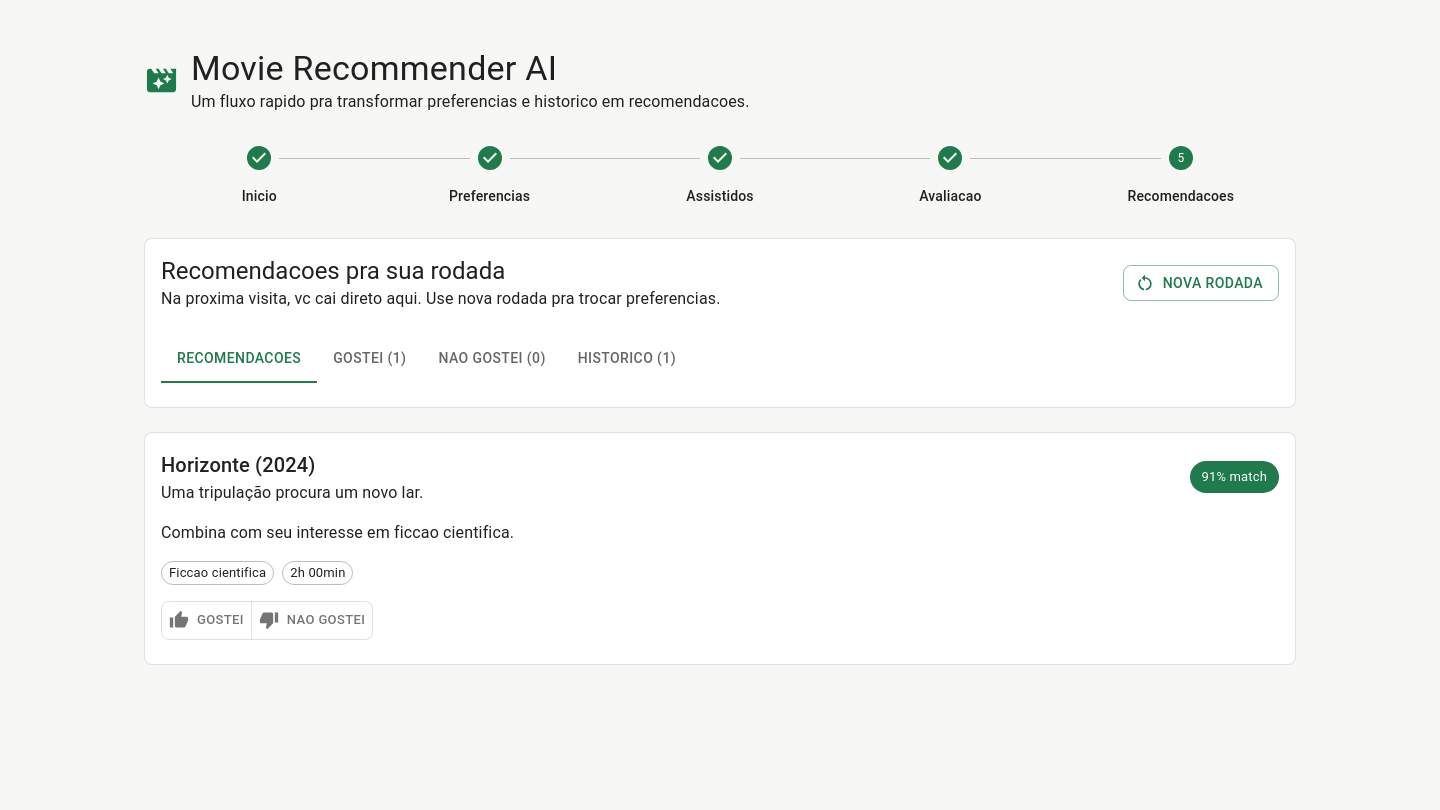
Test: recommendation journey › when viewing an existing recommendation round › shows feedback and round history in their respective tabs
Expected: the heading "Horizonte (2024)" is shown, [161,453,316,477]
Click the tab "Gostei (1)" at x=370, y=359, box [317,335,422,383]
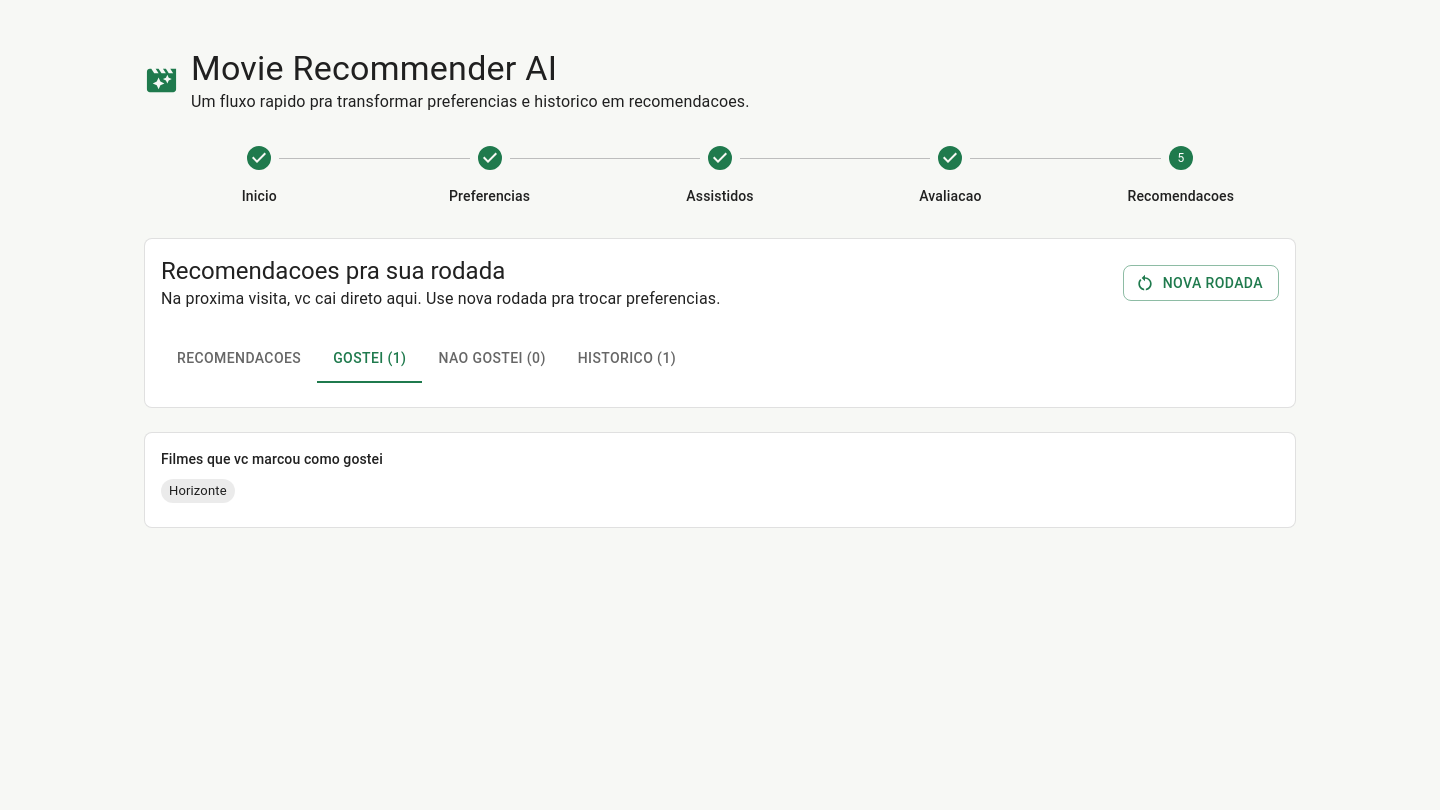
Now the heading "Filmes que vc marcou como gostei" is shown, box [161,451,383,467]
Click the tab "Historico (1)" at x=627, y=359, box [562,335,692,383]
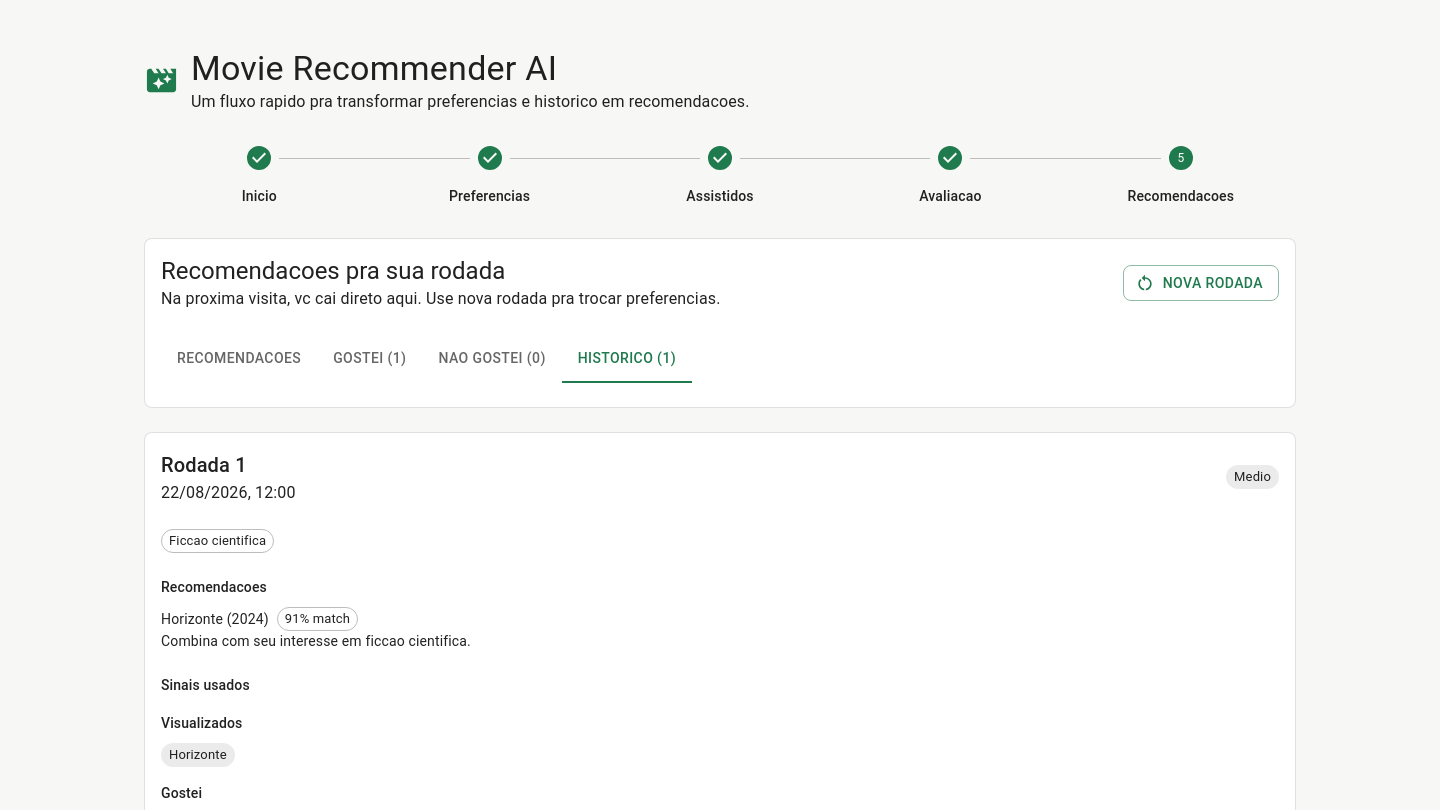
Now the heading "Rodada 1" is shown, box [161,453,247,477]
